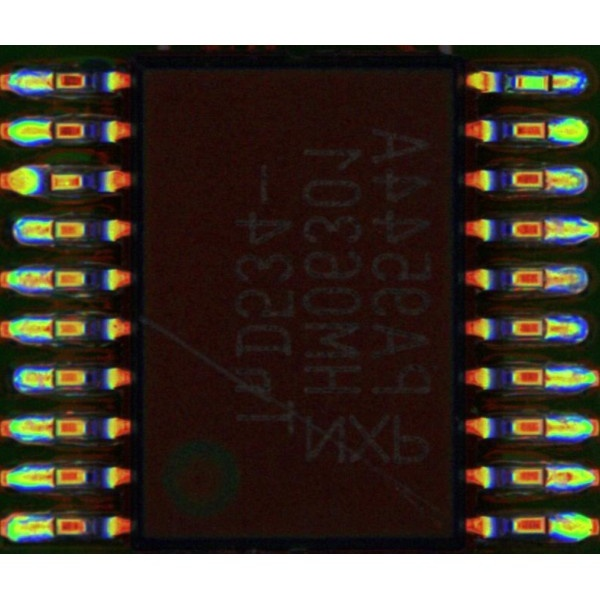Bad_podu: (32, 519, 70, 534), (31, 322, 74, 335), (526, 321, 568, 334), (32, 273, 74, 286), (528, 371, 568, 384), (526, 420, 568, 432), (34, 224, 70, 238), (531, 75, 566, 89), (528, 272, 563, 286), (531, 223, 567, 236), (35, 471, 72, 483), (34, 422, 73, 433), (530, 173, 567, 184), (35, 373, 72, 384), (35, 76, 68, 88), (37, 124, 68, 136)
